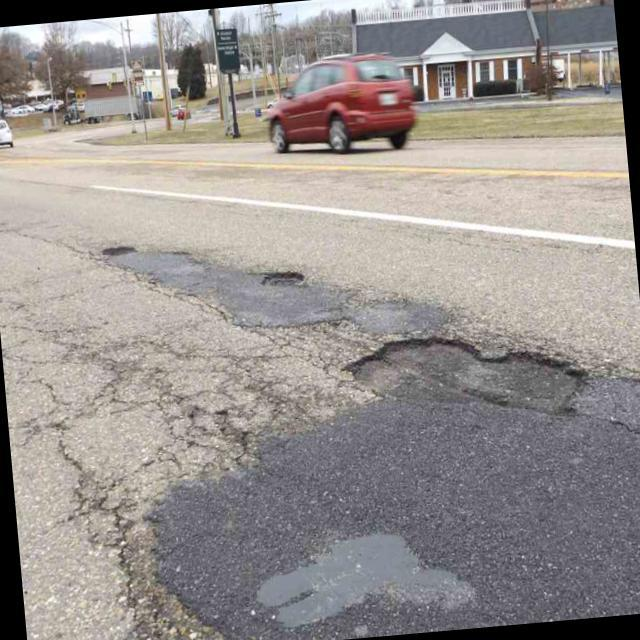Pothole: (338, 312, 592, 431), (256, 260, 310, 294), (98, 234, 134, 264)
